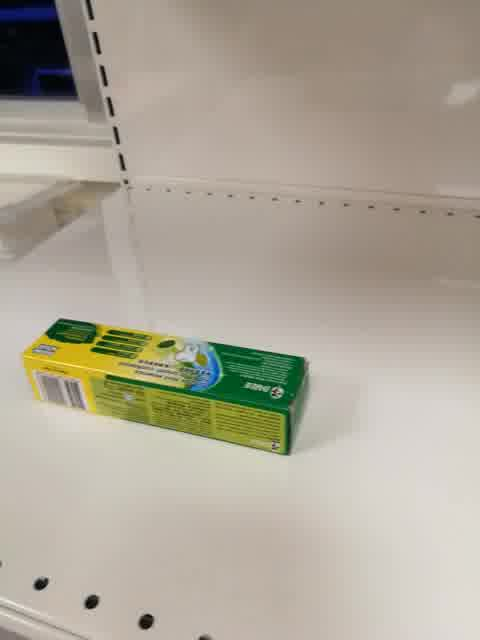toothpaste: (19, 318, 312, 460)
